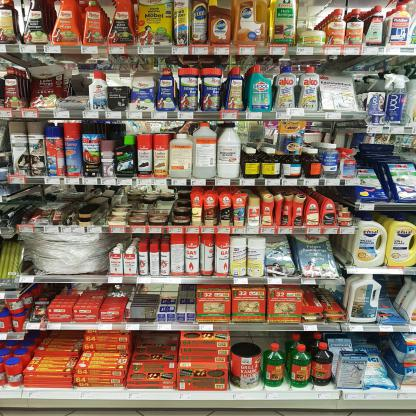Void: (382, 279, 400, 315), (158, 285, 193, 301), (67, 76, 87, 97)
